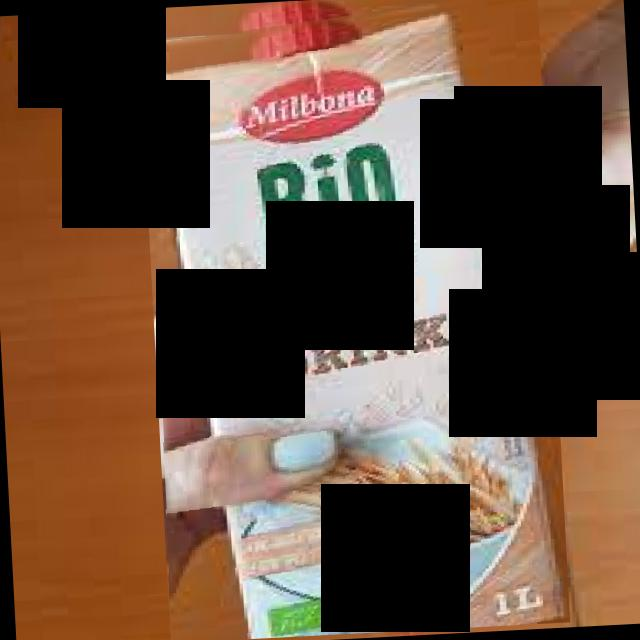milk: (137, 0, 570, 640)
